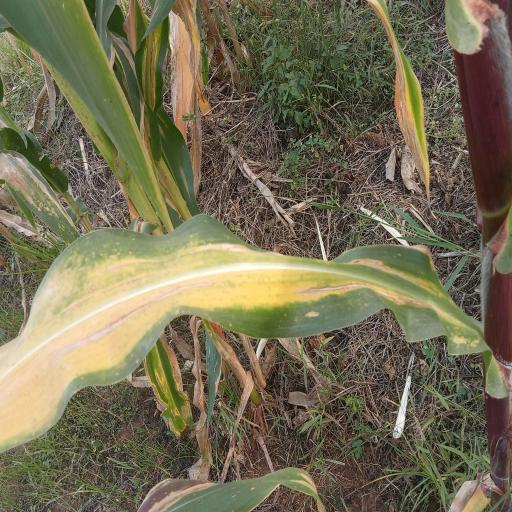Corn_Yellowing: (0, 211, 507, 457)
